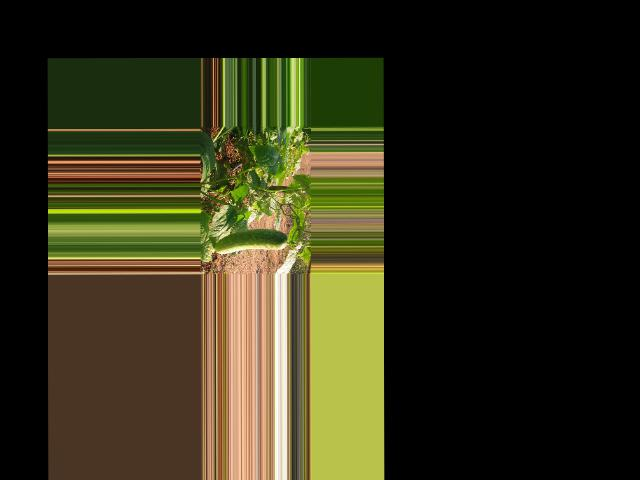cucumber: (214, 229, 286, 254)
